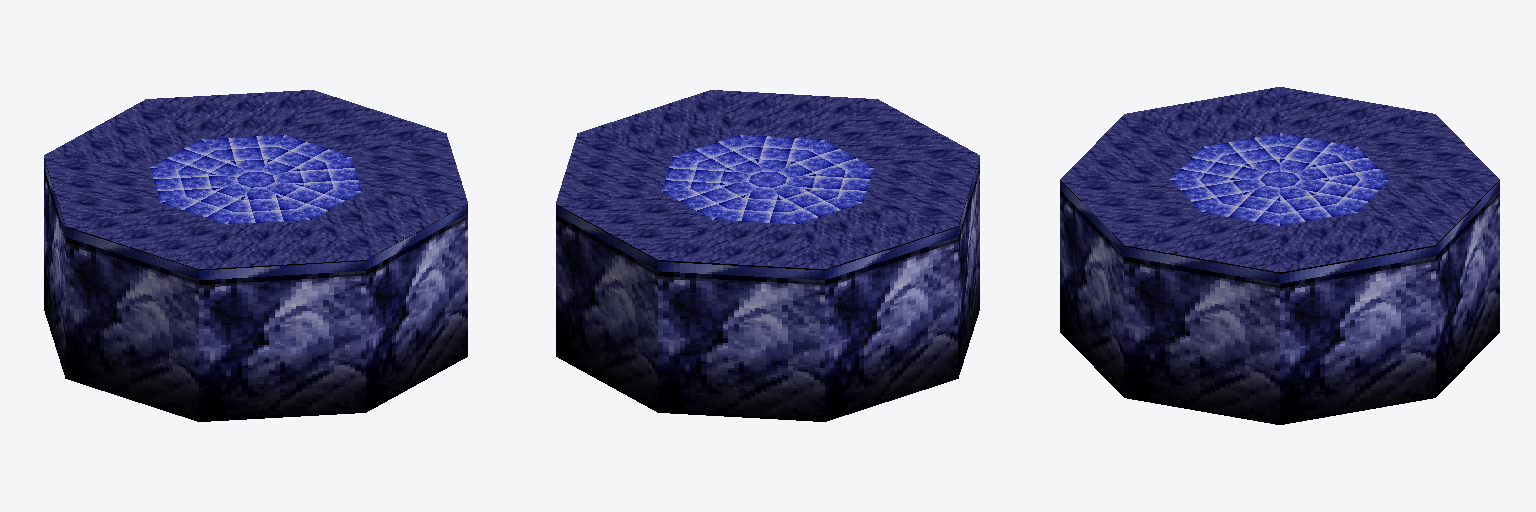
The picture shows the model from 3 angles: view 1: azimuth 30°, elevation 25°; view 2: azimuth 150°, elevation 25°; view 3: azimuth 270°, elevation 25°; orthographic projection.
Parts seen in each view (by area): view 1: bowser_stadium_1; view 2: bowser_stadium_1; view 3: bowser_stadium_1.
Boxes of the visible parts, <box> form: bowser_stadium_1: <box>44,90,467,421</box>; bowser_stadium_1: <box>556,90,979,421</box>; bowser_stadium_1: <box>1060,87,1499,424</box>.
Bounding box in the file's own units: 6.14 × 2.35 × 6.14.
3 materials, 3 textured.